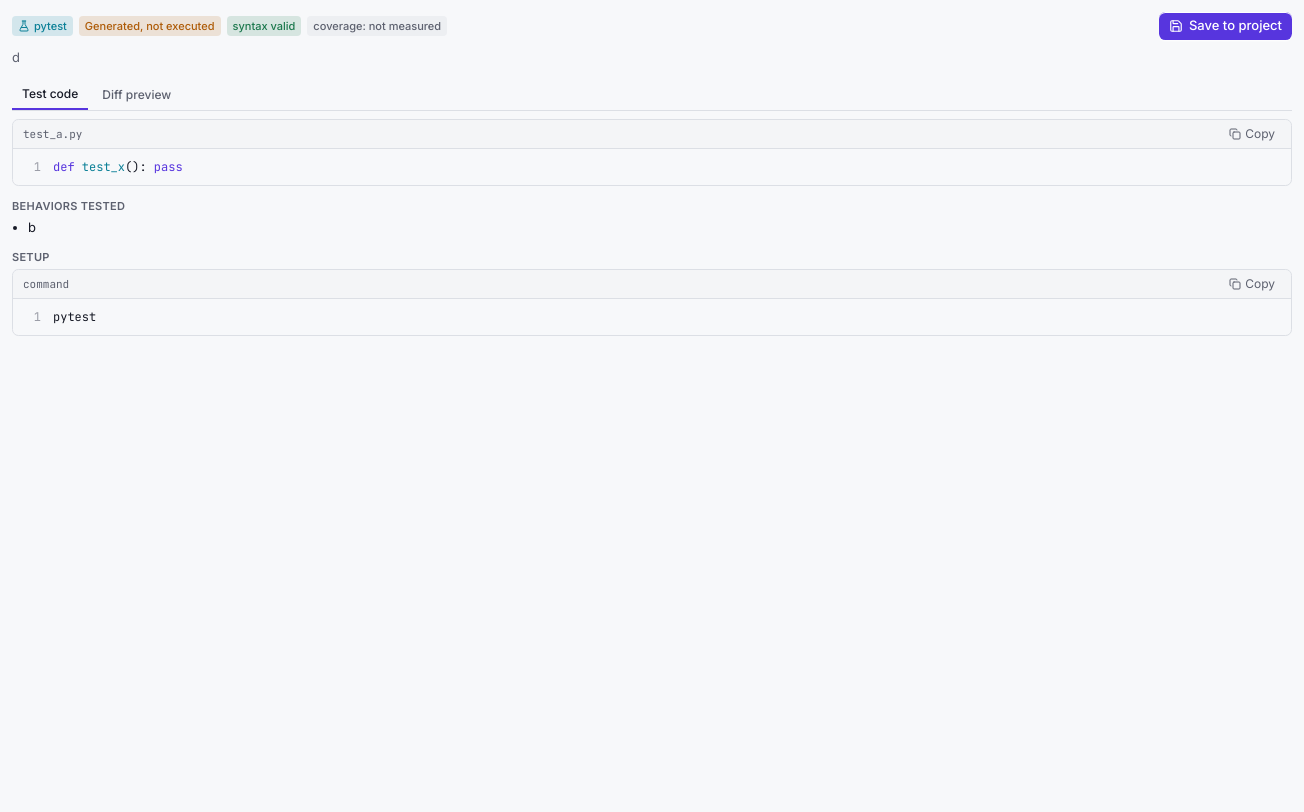
Test: Result views keep tool facts and AI hypotheses apart › labels generated tests as not executed and saves on request
Expected: the text "Generated, not executed" is shown, x1=79 y1=16 x2=221 y2=36
Expected: the text "coverage: not measured" is shown, x1=307 y1=16 x2=447 y2=36
Click the button "Save to project" at (1226,26), box x1=1159 y1=12 x2=1292 y2=40
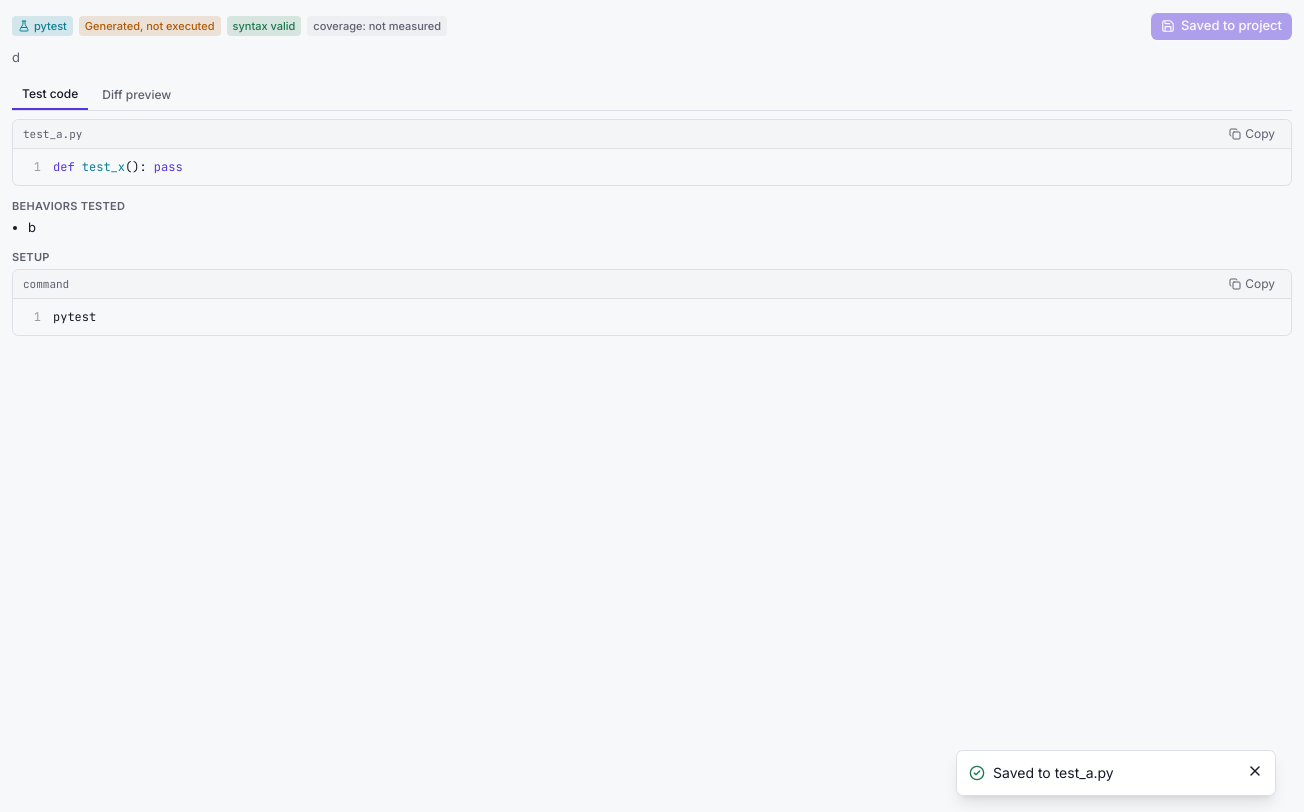
Result: the button "Saved to project" is disabled at x1=1151 y1=12 x2=1292 y2=40
